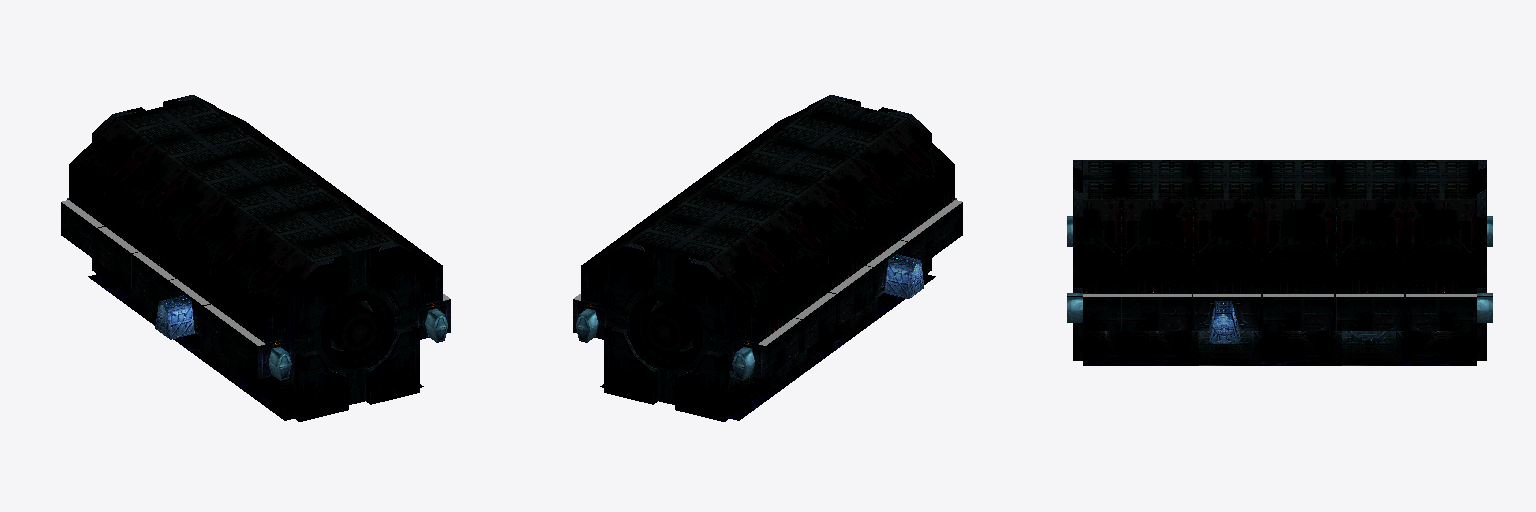
3 views of the same model, side by side, from view 1: azimuth 30°, elevation 25°; view 2: azimuth 150°, elevation 25°; view 3: azimuth 270°, elevation 25° (orthographic).
Visible parts, largest first — view 1: Wall-08, Wall_Z-01, Root_bar; view 2: Wall_Z-01, Wall-08, Root_bar; view 3: Wall_Z-01, Wall-08, Root_bar.
Boxes of the visible parts, x1,y1,x2,y2 form: Wall-08: [155, 177, 450, 421]; Wall_Z-01: [61, 95, 350, 348]; Root_bar: [88, 274, 423, 420]; Wall_Z-01: [573, 164, 872, 421]; Wall-08: [689, 95, 962, 340]; Root_bar: [600, 274, 935, 420]; Wall_Z-01: [1263, 160, 1492, 365]; Wall-08: [1067, 160, 1263, 365]; Root_bar: [1083, 341, 1476, 365].
Bounding box in the file's own units: 34.31 × 20.54 × 52.4.
Materials: 33 (31 with a texture image).